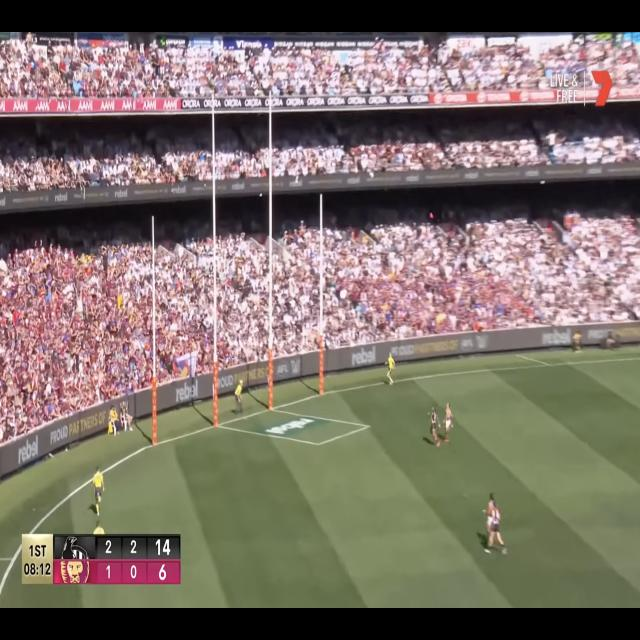crowd: (324, 200, 638, 348), (0, 33, 640, 95), (0, 207, 154, 446), (273, 112, 640, 171), (0, 110, 213, 190), (156, 201, 213, 382), (217, 199, 270, 376), (270, 197, 318, 357), (210, 109, 269, 179)
